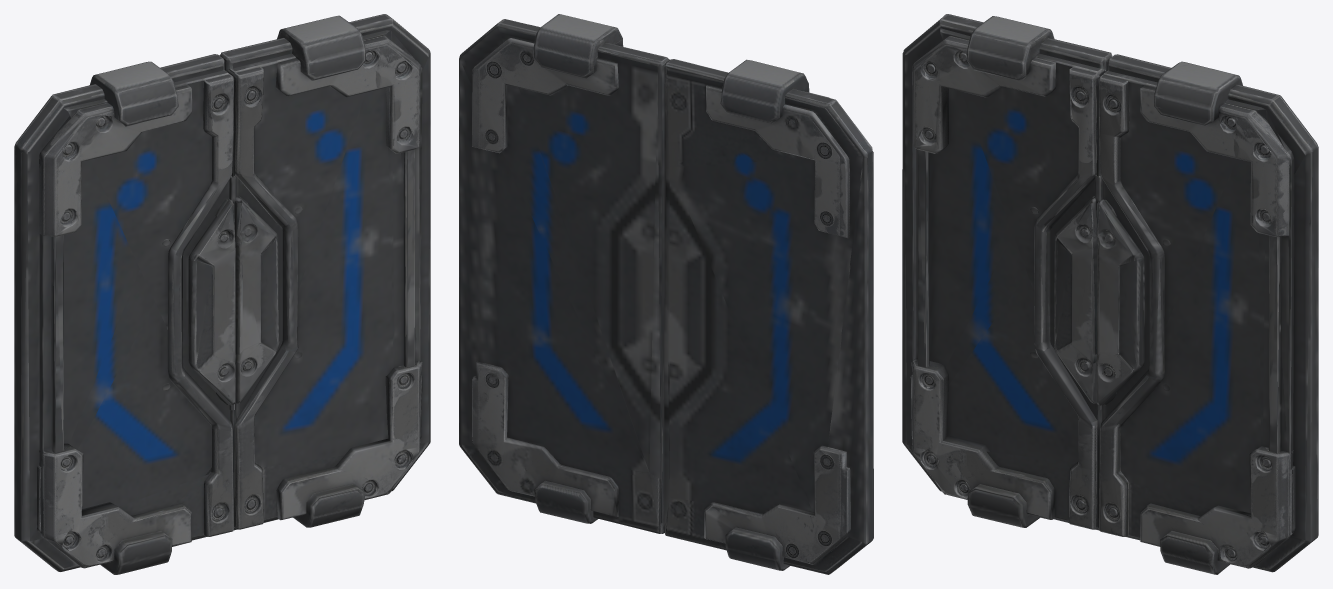
File: Meshy_AI_Titan_Gate_1019184105_texture.fbx
3 views of the same model, side by side, from view 1: azimuth 30°, elevation 25°; view 2: azimuth 150°, elevation 25°; view 3: azimuth 330°, elevation 25° (orthographic).
Parts seen in each view (by area): view 1: Mesh_0; view 2: Mesh_0; view 3: Mesh_0.
Part boxes in pixels (x1=…): Mesh_0: x1=14, y1=14, x2=430, y2=574; Mesh_0: x1=459, y1=14, x2=873, y2=574; Mesh_0: x1=902, y1=14, x2=1318, y2=574.
Size of the model in its own units: 83.54 by 95.07 by 11.57.
1 material, 1 textured.
